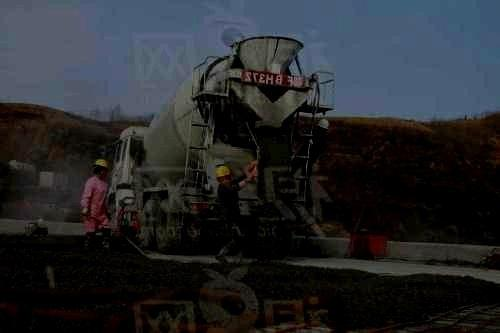helmet: (214, 165, 231, 185), (92, 159, 108, 179)
